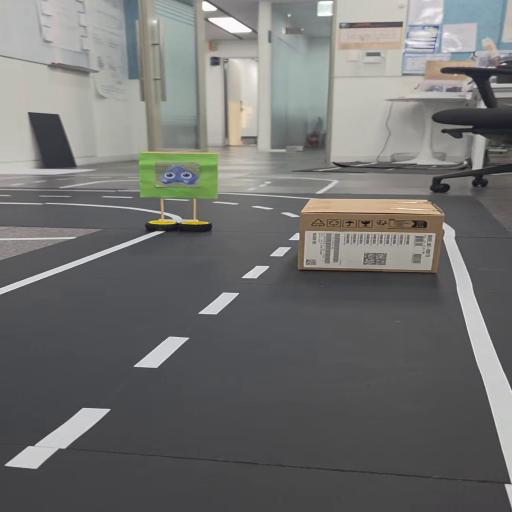Box: (292, 193, 451, 277)
Sign_B: (131, 150, 230, 242)
